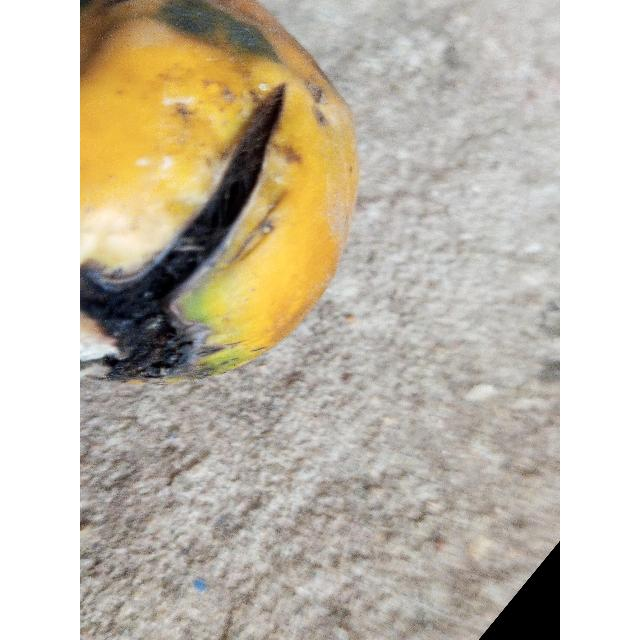damaged: (80, 0, 360, 381)
